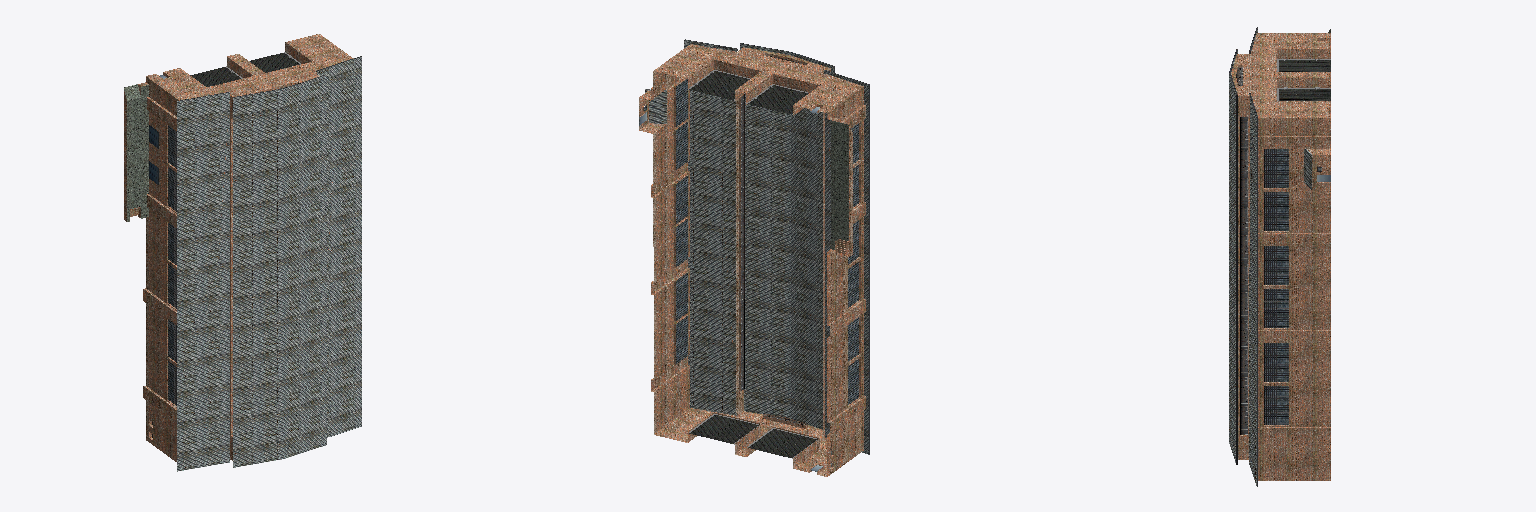
The picture shows the model from 3 angles: view 1: azimuth 30°, elevation 25°; view 2: azimuth 150°, elevation 25°; view 3: azimuth 270°, elevation 25°; orthographic projection.
Parts seen in each view (by area): view 1: MSH_Box01; view 2: MSH_Box01; view 3: MSH_Box01.
Part boxes in pixels (bbox=[...]): MSH_Box01: bbox=[124, 34, 361, 471]; MSH_Box01: bbox=[639, 39, 869, 476]; MSH_Box01: bbox=[1229, 27, 1330, 486].
Bounding box in the file's own units: 45.45 × 75.19 × 18.77.
10 materials, 9 textured.